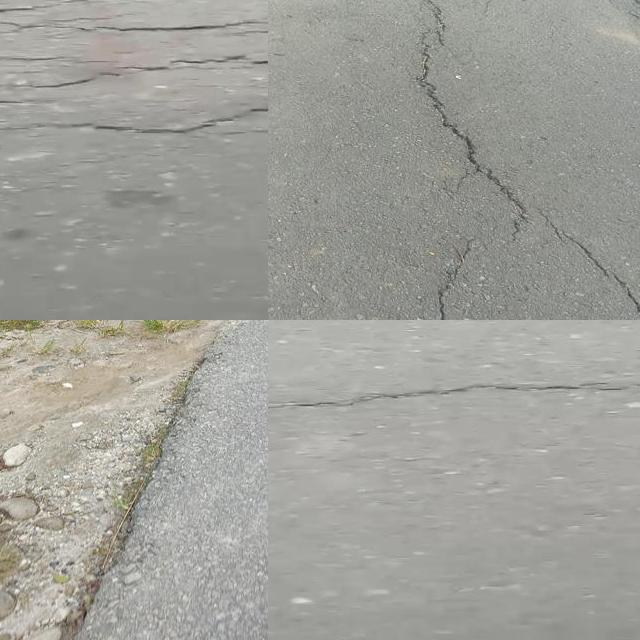Melintang: (268, 365, 640, 429)
Memanjang: (403, 0, 640, 320)
Pinggir: (51, 320, 257, 640)
